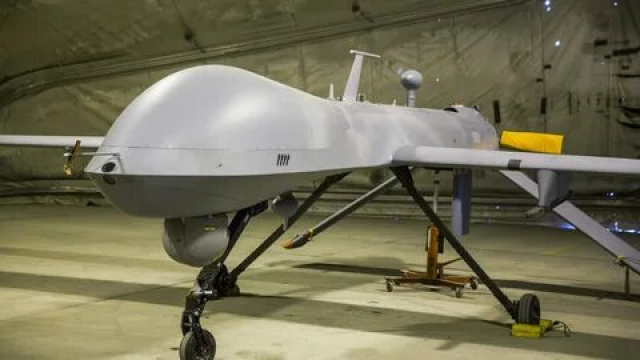military drone: (0, 49, 640, 360)
